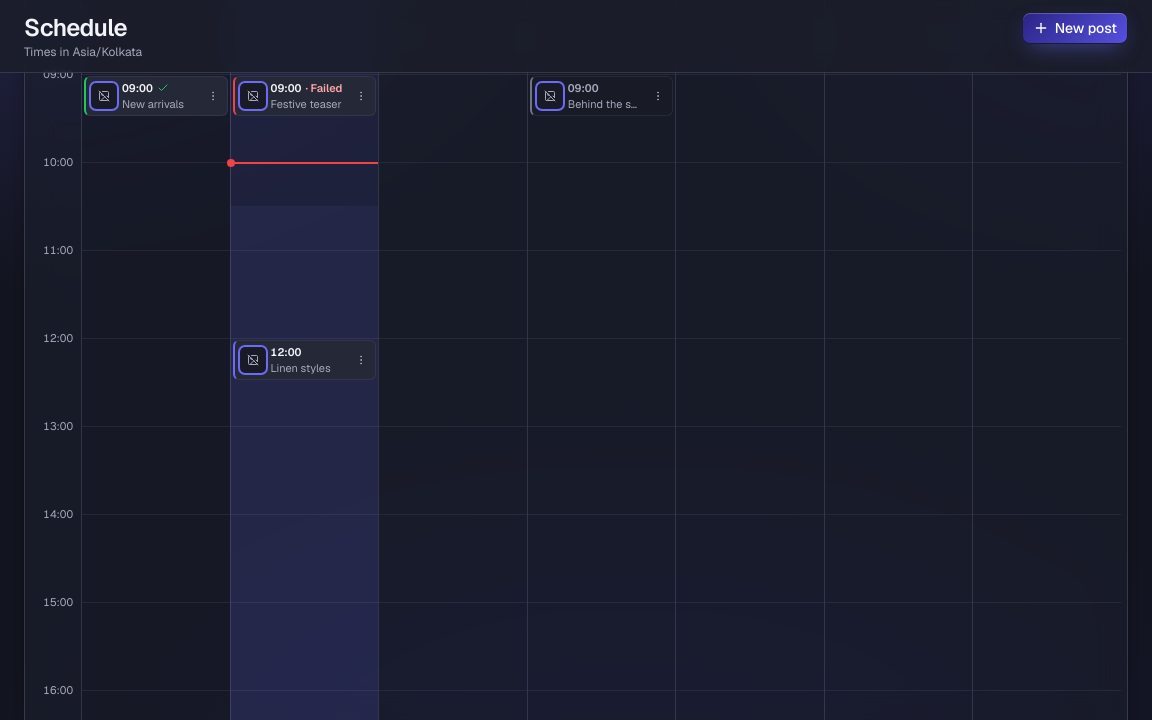
Scenario: Schedule page: Week (UX-SCR-04, FR-PUB-08) › shows the API's refusal inside the Move to… dialog
(page scrolled)
Click the button named "Actions for Linen styles" at (361, 360), box [349,348,373,372]
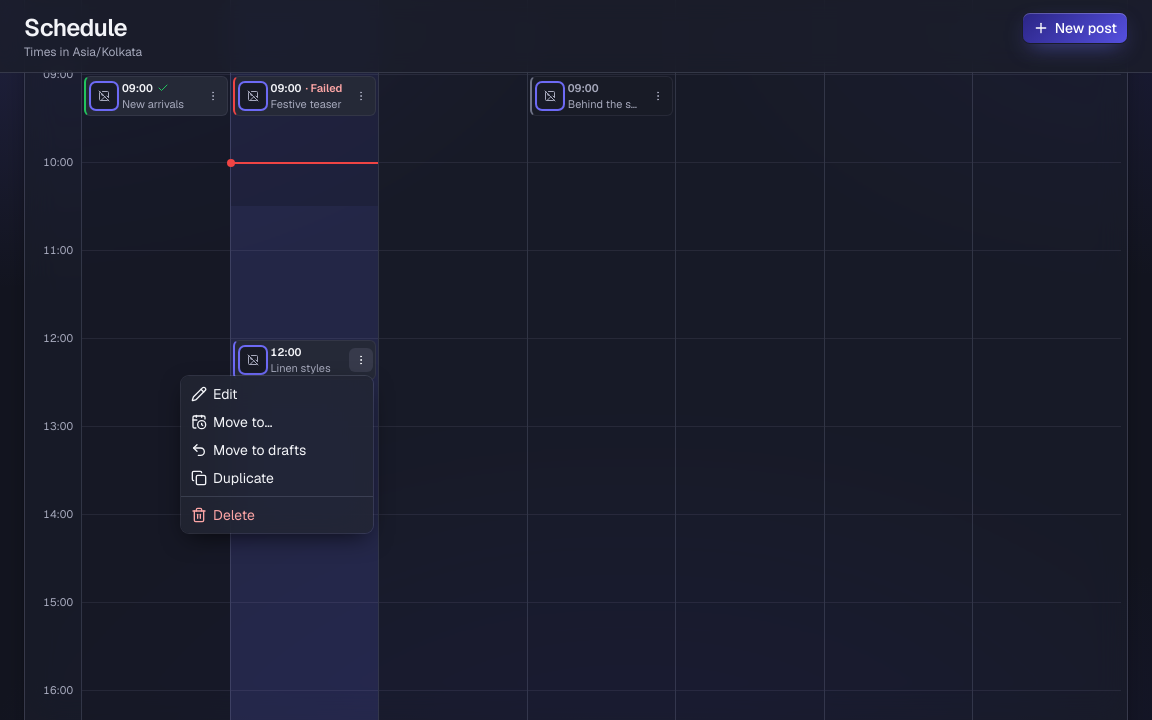
Click the menu item "Move to…" at (232, 422), box [191,413,273,431]
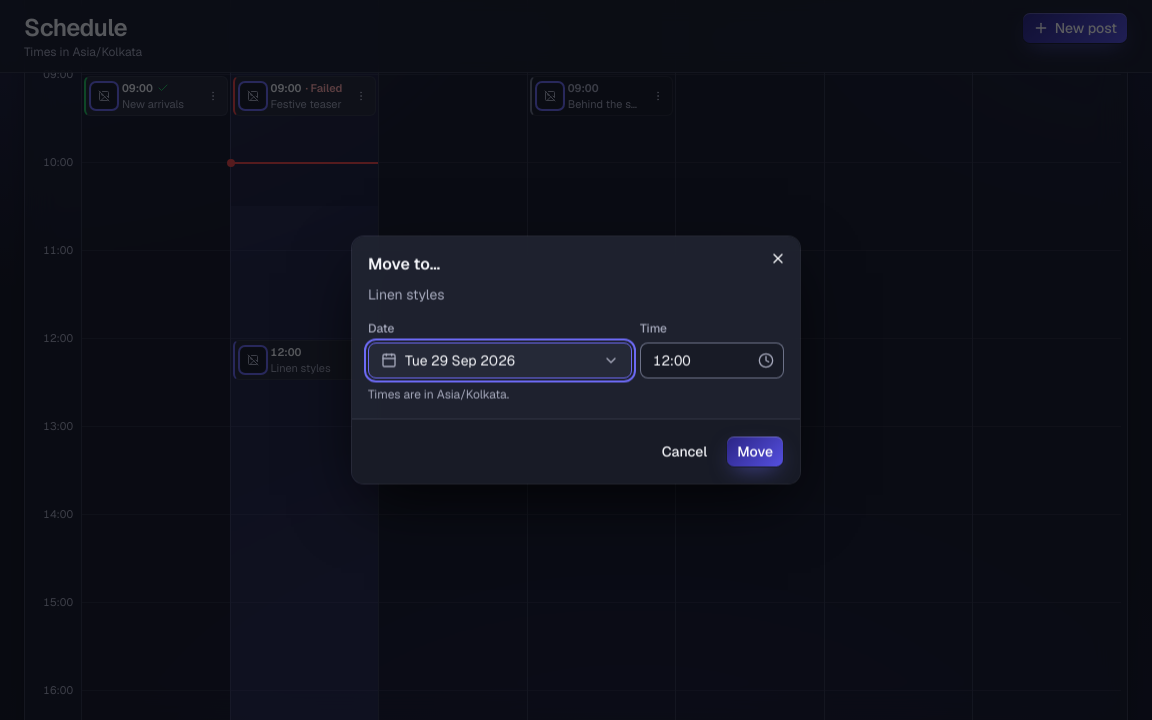
Replace the text in the field labelled "Time" with "20:00" at (712, 360), box [640,342,784,378]
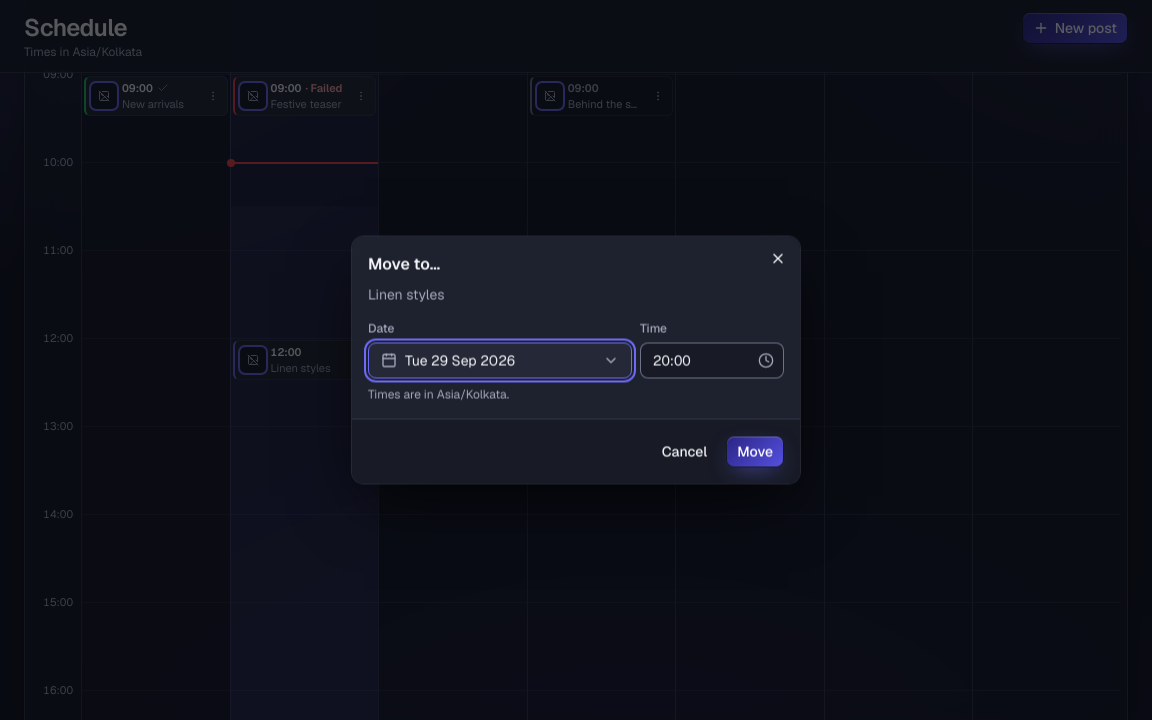
Click the button "Move" at (755, 452), box [726,436,784,468]
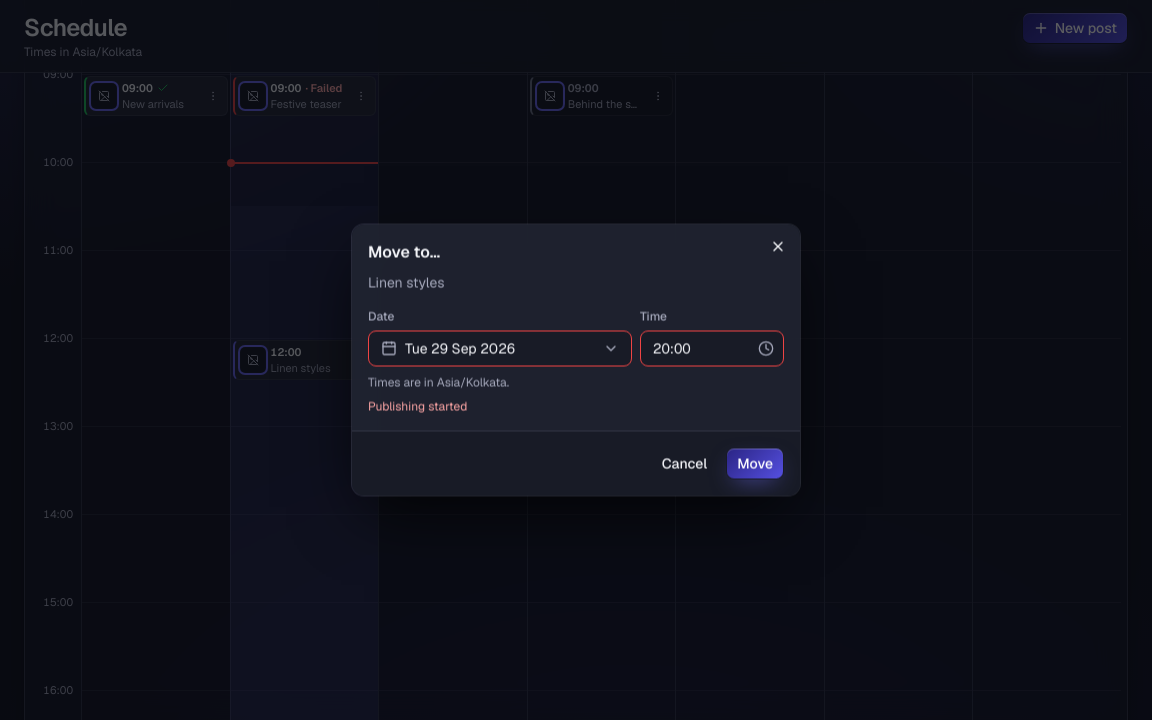
Expected: the message reads "Publishing started", [368,398,467,414]
